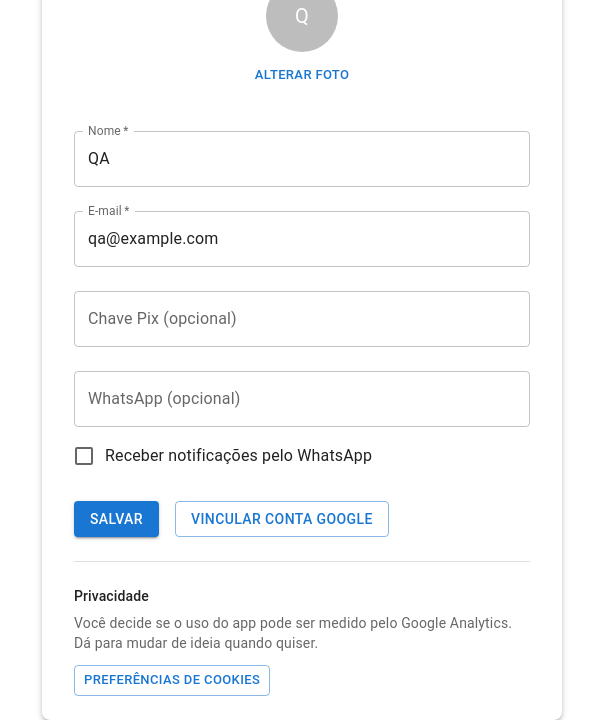
Test case: reabertura do consentimento pelo perfil › trocar a escolha no banner reaberto sobrescreve o cookie
(page scrolled)
Expected: the heading "Privacidade" is shown, x1=74 y1=588 x2=149 y2=604
Click the button "Preferências de cookies".
click(172, 680)  # box x1=74 y1=665 x2=270 y2=696
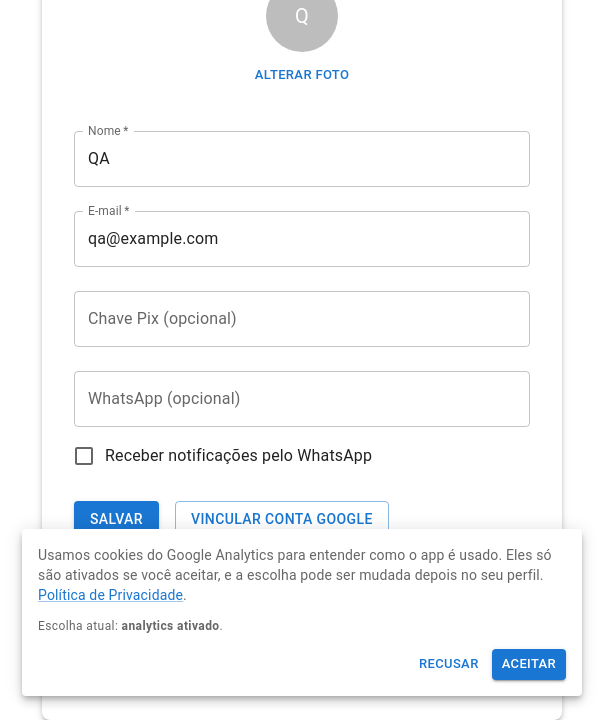
Click the button "Recusar".
click(449, 665)  # box x1=414 y1=649 x2=484 y2=680
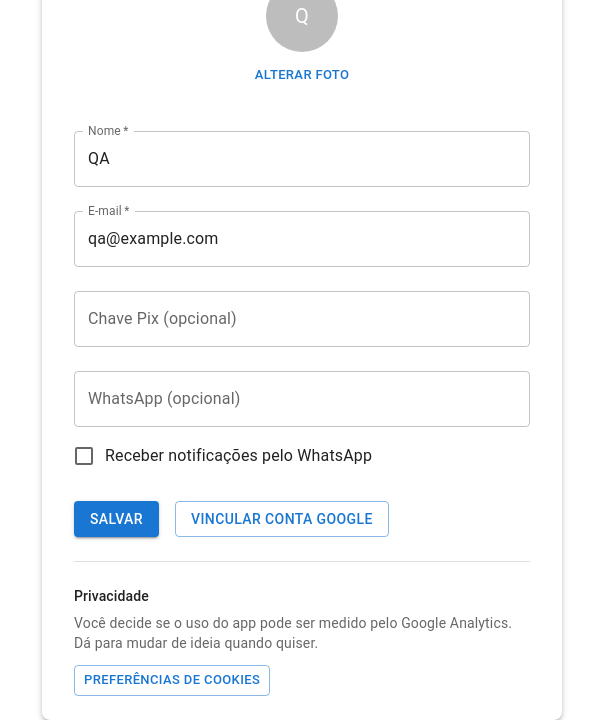
Expected: the text "Usamos cookies do Google Analytics" is gone
